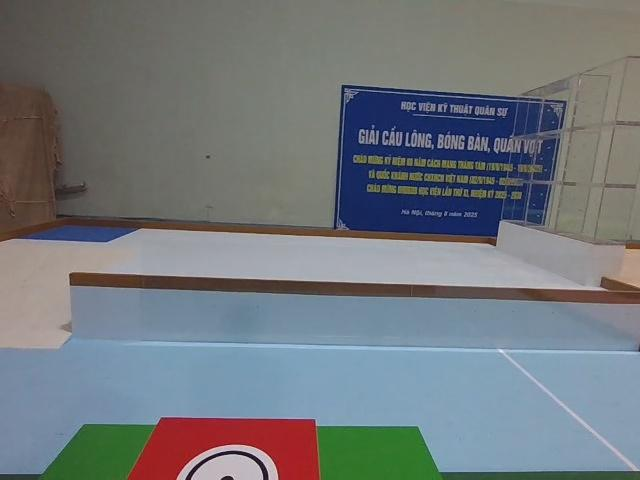R2 Real: (126, 414, 322, 480)
